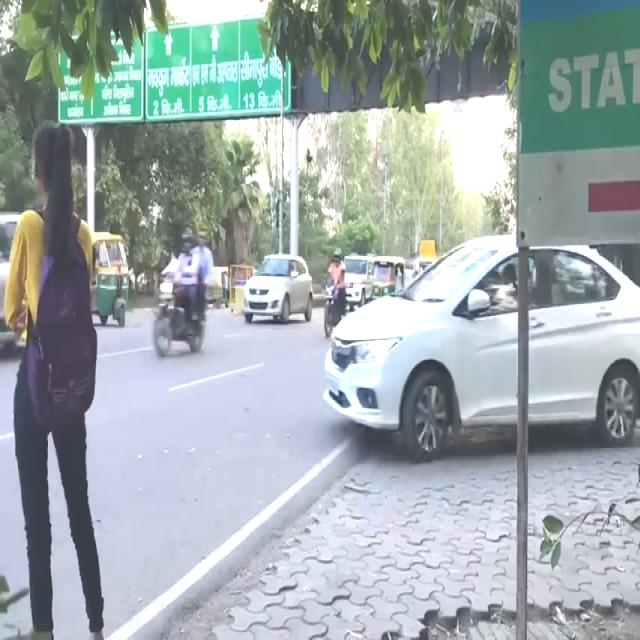MOTORCYCLE: (153, 269, 210, 361), (322, 279, 345, 335)
SED: (324, 223, 640, 447), (242, 248, 314, 327)
